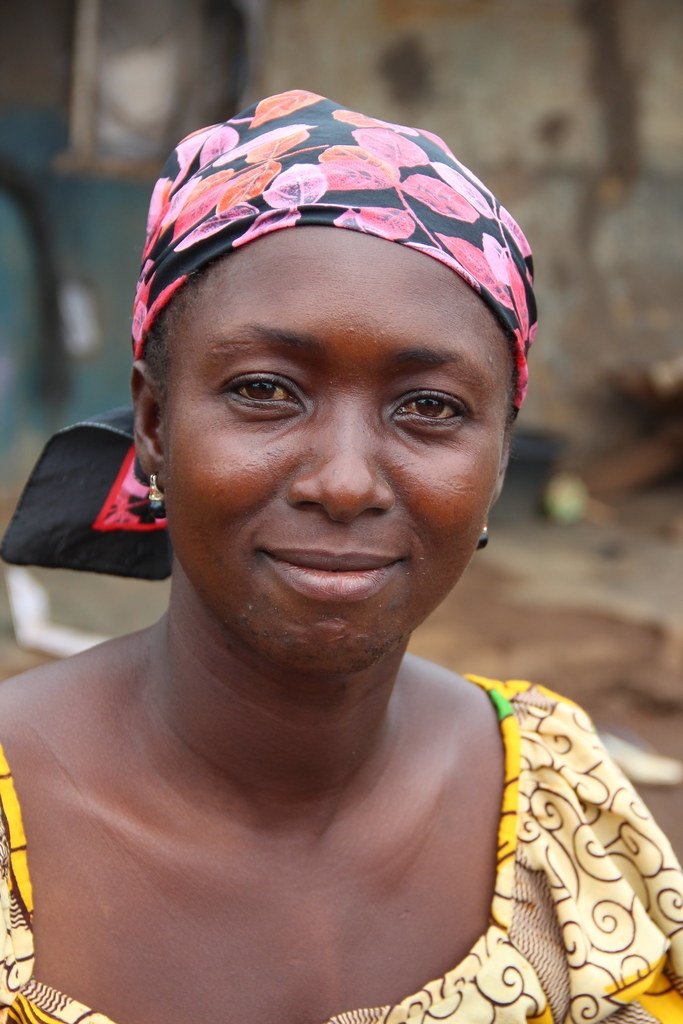without_mask: (130, 210, 546, 674)
